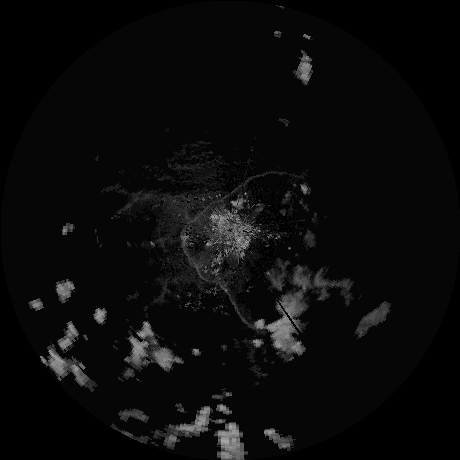frontgust: (182, 236, 253, 327), (182, 171, 289, 229)
